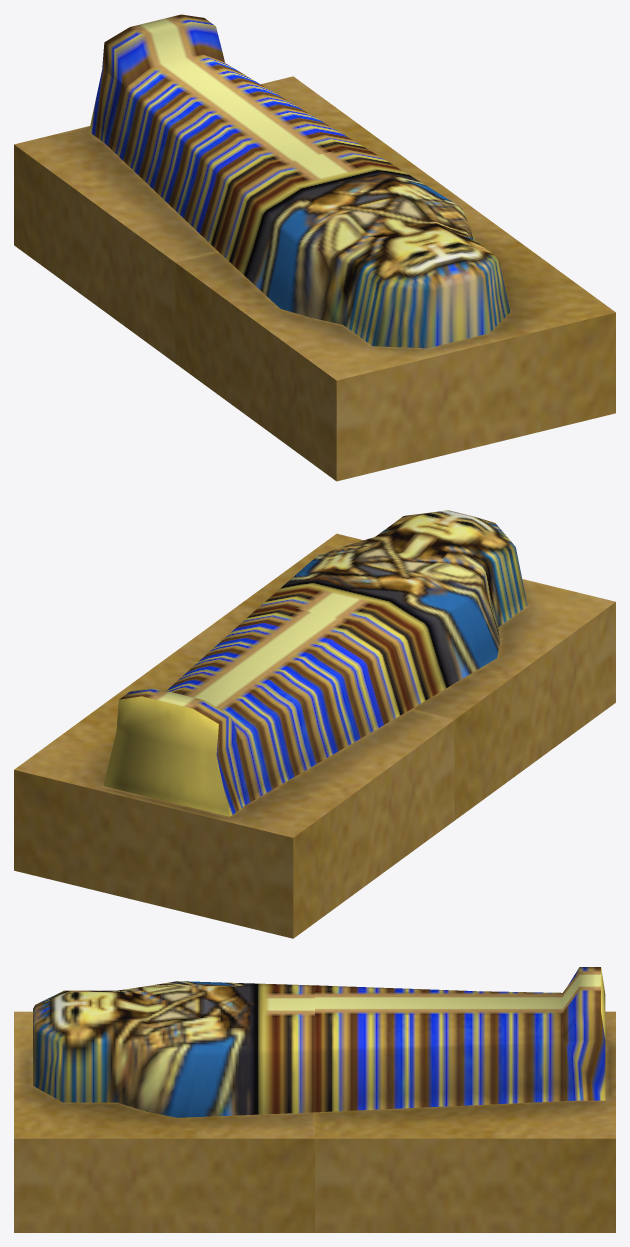
Rendered from egy_tutankhamun.obj.
The picture shows the model from 3 angles, top to bottom: view 1: azimuth 30°, elevation 25°; view 2: azimuth 150°, elevation 25°; view 3: azimuth 270°, elevation 25°; orthographic projection. The views are drawn at different scales.
Bounding box in the file's own units: 1 × 0.6765 × 2.
Materials: 1 (1 with a texture image).
